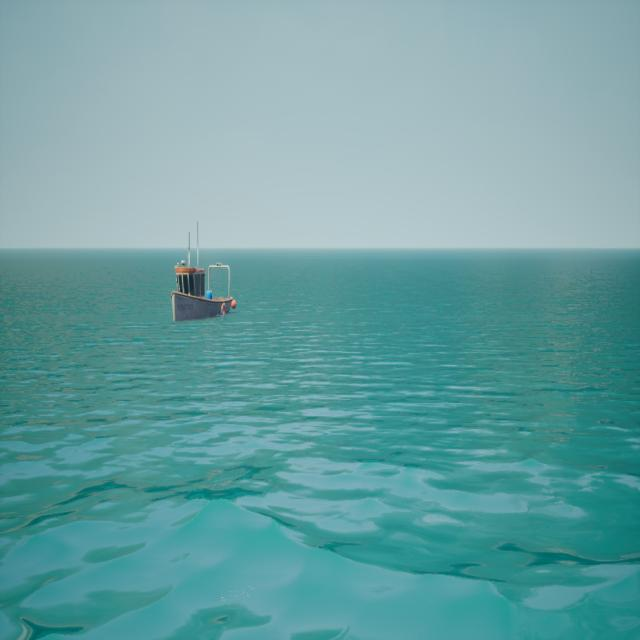ship: (172, 227, 238, 323)
